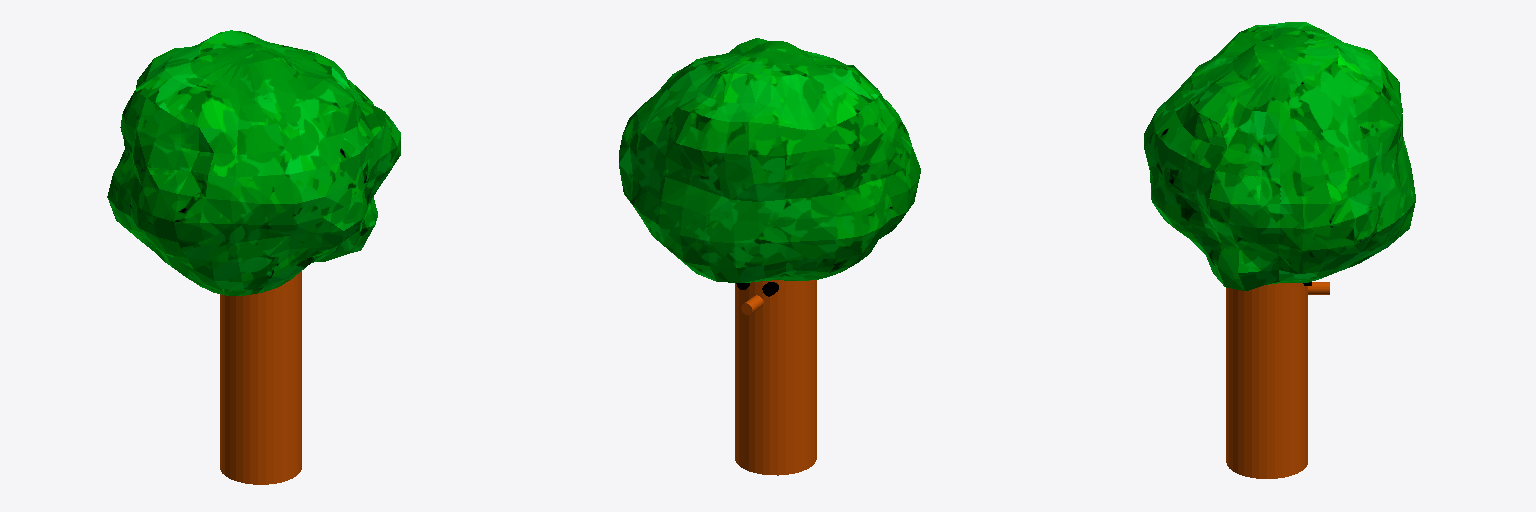
3 renders of one model, left to right at view 1: azimuth 30°, elevation 25°; view 2: azimuth 150°, elevation 25°; view 3: azimuth 270°, elevation 25°, orthographic.
Visible parts, largest first — view 1: 円柱.001; view 2: 円柱.001; view 3: 円柱.001.
Boxes of the visible parts, x1,y1,x2,y2 form: 円柱.001: [107, 30, 400, 484]; 円柱.001: [619, 38, 920, 475]; 円柱.001: [1144, 22, 1415, 478].
Bounding box in the file's own units: 23.14 × 35.28 × 21.09.
Materials: 3 (1 with a texture image).